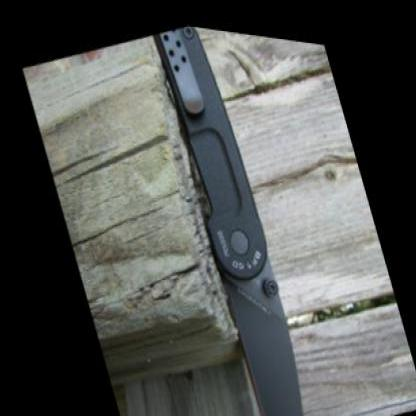knife: (201, 211, 318, 414)
